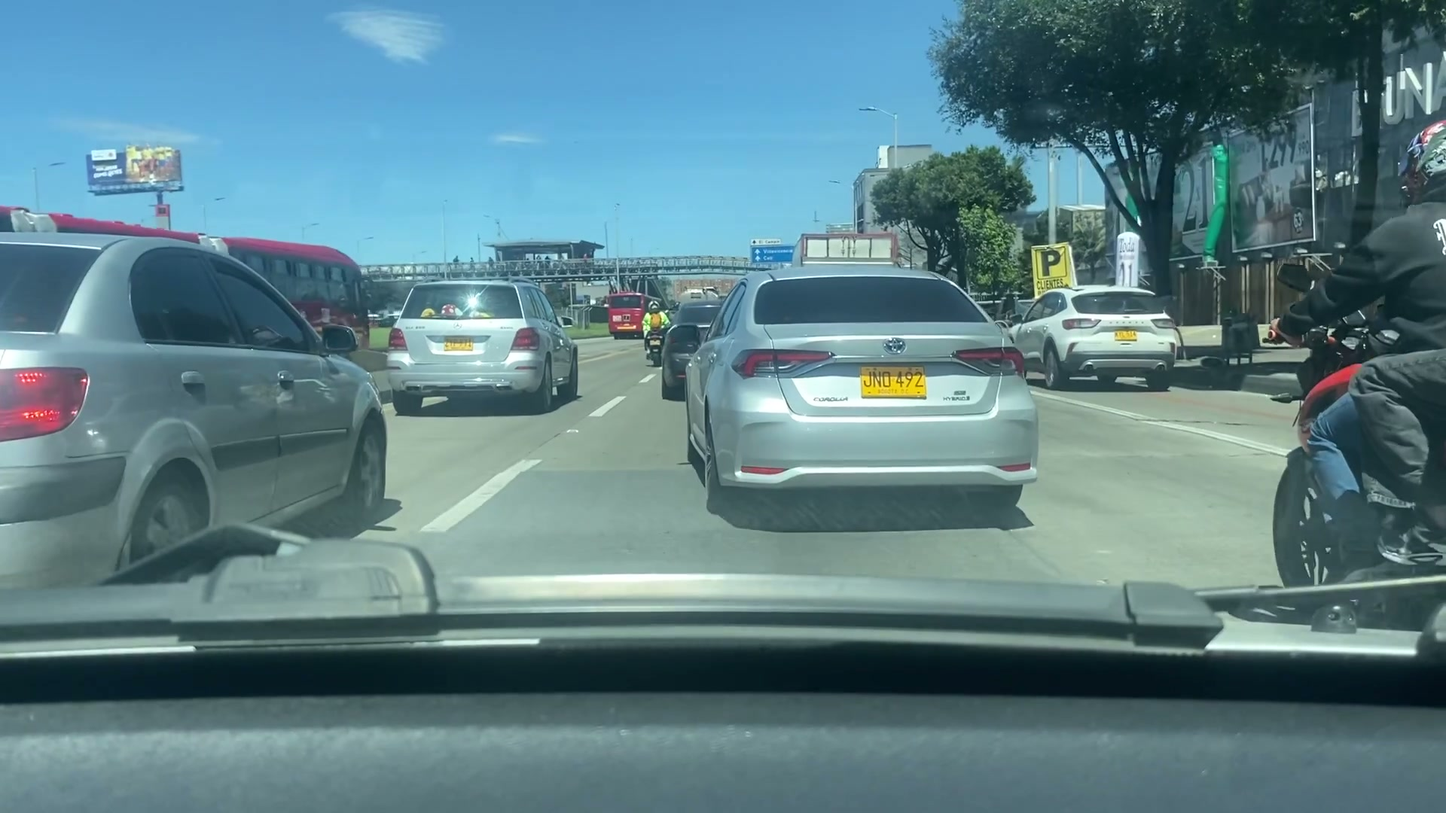car: (0, 232, 384, 593), (669, 262, 1040, 514), (385, 276, 583, 413), (1002, 284, 1179, 398), (661, 301, 748, 403)
motorcycle: (1245, 283, 1446, 623), (640, 330, 669, 368)
person: (1279, 116, 1446, 572), (642, 303, 668, 354)
